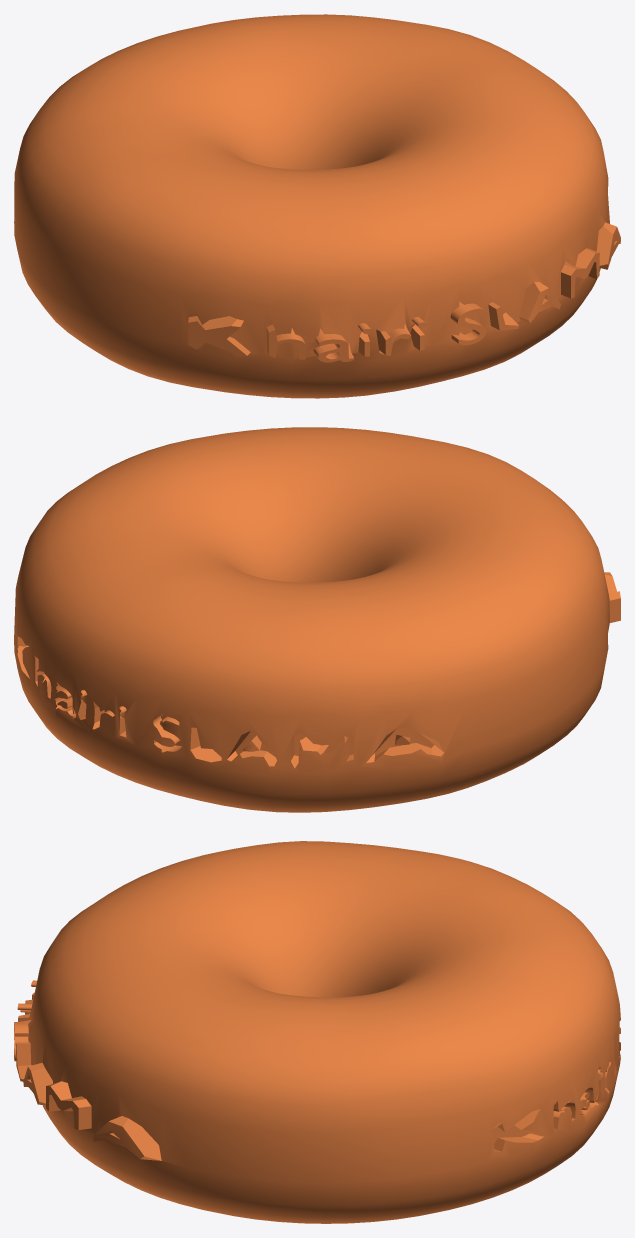
The model's file is text-over-torus.glb.
The picture shows the model from 3 angles, top to bottom: view 1: azimuth 30°, elevation 25°; view 2: azimuth 150°, elevation 25°; view 3: azimuth 270°, elevation 25°; orthographic projection.
Visible parts, largest first — view 1: Base; view 2: Base; view 3: Base.
Boxes of the visible parts, x1=… form: Base: x1=14, y1=14, x2=620, y2=398; Base: x1=14, y1=427, x2=620, y2=812; Base: x1=14, y1=841, x2=620, y2=1223.
Size of the model in its own units: 2.69 by 1 by 2.78.
